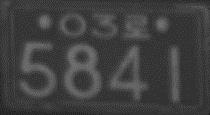0: (58, 12, 87, 38)
1: (156, 45, 193, 105)
3: (90, 12, 118, 40)
4: (107, 45, 148, 103)
5: (17, 42, 57, 98)
8: (63, 42, 103, 100)
로: (121, 13, 151, 39)
